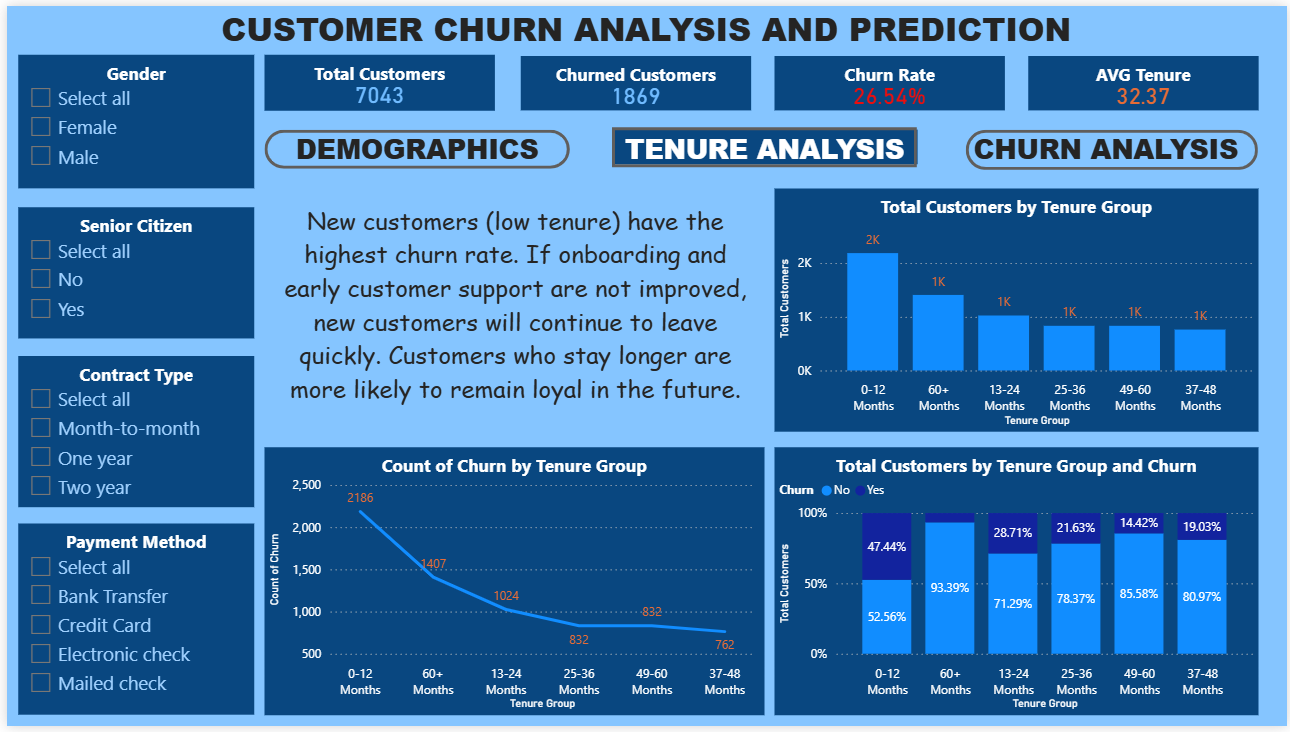

The page's visual inventory and layout, read from the dashboard file:
{"tool":"powerbi","page":{"name":"Tenure Analysis","canvas":[1280,720],"ordinal":1},"visuals":[{"type":"card","title":"Churn Rate","fields":{"Values":["Telco_Customer_Churn_Dataset.Churn Rate %"]},"box":[767.6,50.4,230.4,54.7],"z":0},{"type":"textbox","title":"CUSTOMER CHURN ANALYSIS AND PREDICTION","box":[11.5,0,1255.8,49],"z":1000},{"type":"card","title":"Total Customers","fields":{"Values":["Telco_Customer_Churn_Dataset.Total Customers"]},"box":[257.8,49,230.4,56.2],"z":2000},{"type":"card","title":"Churned Customers","fields":{"Values":["Telco_Customer_Churn_Dataset.Churned Customers"]},"box":[514.1,50.4,230.4,54.7],"z":3000},{"type":"card","title":"AVG Tenure","fields":{"Values":["Telco_Customer_Churn_Dataset.Avg Tenure (Months)"]},"box":[1021.1,50.4,230.4,54.7],"z":4000},{"type":"slicer","title":"Gender","fields":{"Values":["Telco_Customer_Churn_Dataset.gender"]},"box":[11.5,49,236.2,133.9],"z":5000},{"type":"slicer","title":"Senior Citizen","fields":{"Values":["Telco_Customer_Churn_Dataset.Senior Citizen Status"]},"box":[11.5,201.6,236.2,131.1],"z":6000},{"type":"slicer","title":"Contract Type","fields":{"Values":["Telco_Customer_Churn_Dataset.Contract"]},"box":[11.5,350,236.2,151.2],"z":7000},{"type":"textbox","title":"DEMOGRAPHICS","box":[257.8,123.9,305.3,34.6],"z":8000},{"type":"textbox","title":"TENURE ANALYSIS","box":[604.9,123.9,305.3,34.6],"z":9000},{"type":"textbox","title":"CHURN ANALYSIS","box":[946.2,123.9,305.3,34.6],"z":10000},{"type":"actionButton","box":[257.8,123.9,305.3,38.9],"z":11000},{"type":"slicer","title":"Payment Method","fields":{"Values":["Telco_Customer_Churn_Dataset.PaymentMethod"]},"box":[11.5,517,236.2,191.5],"z":12000},{"type":"actionButton","box":[605,121.2,305,40],"z":13000},{"type":"hundredPercentStackedColumnChart","fields":{"Category":["Telco_Customer_Churn_Dataset.Tenure Group"],"Y":["Telco_Customer_Churn_Dataset.Total Customers"],"Series":["Telco_Customer_Churn_Dataset.Churn"]},"box":[767.6,440.7,483.9,267.9],"z":14000},{"type":"clusteredColumnChart","fields":{"Y":["Telco_Customer_Churn_Dataset.Total Customers"],"Category":["Telco_Customer_Churn_Dataset.Tenure Group"]},"box":[767.6,182.9,483.9,243.4],"z":15000},{"type":"lineChart","fields":{"Category":["Telco_Customer_Churn_Dataset.Tenure Group"],"Y":["CountNonNull(Telco_Customer_Churn_Dataset.Churn)"]},"box":[257.8,440.7,499.7,267.9],"z":16000},{"type":"actionButton","box":[959.1,123.9,292.4,40.3],"z":17000},{"type":"textbox","box":[265,193,486.8,224.7],"z":18000}]}

Visuals, with their boxes in screenshot pixels (x1, y1, x2, y2), scaled from the page's 1280x720 canvas onto the 1290x732 screenshot:
"Churn Rate" card: box=[774, 51, 1006, 107]
"CUSTOMER CHURN ANALYSIS AND PREDICTION" textbox: box=[12, 0, 1277, 50]
"Total Customers" card: box=[260, 50, 492, 107]
"Churned Customers" card: box=[518, 51, 750, 107]
"AVG Tenure" card: box=[1029, 51, 1261, 107]
"Gender" slicer: box=[12, 50, 250, 186]
"Senior Citizen" slicer: box=[12, 205, 250, 338]
"Contract Type" slicer: box=[12, 356, 250, 510]
"DEMOGRAPHICS" textbox: box=[260, 126, 567, 161]
"TENURE ANALYSIS" textbox: box=[610, 126, 917, 161]
"CHURN ANALYSIS" textbox: box=[954, 126, 1261, 161]
actionButton: box=[260, 126, 567, 166]
"Payment Method" slicer: box=[12, 526, 250, 720]
actionButton: box=[610, 123, 917, 164]
hundredPercentStackedColumnChart - Telco_Customer_Churn_Dataset.Tenure Group x Telco_Customer_Churn_Dataset.Total Customers: box=[774, 448, 1261, 720]
clusteredColumnChart - Telco_Customer_Churn_Dataset.Total Customers x Telco_Customer_Churn_Dataset.Tenure Group: box=[774, 186, 1261, 433]
lineChart - Telco_Customer_Churn_Dataset.Tenure Group x CountNonNull(Telco_Customer_Churn_Dataset.Churn): box=[260, 448, 763, 720]
actionButton: box=[967, 126, 1261, 167]
textbox: box=[267, 196, 758, 425]
